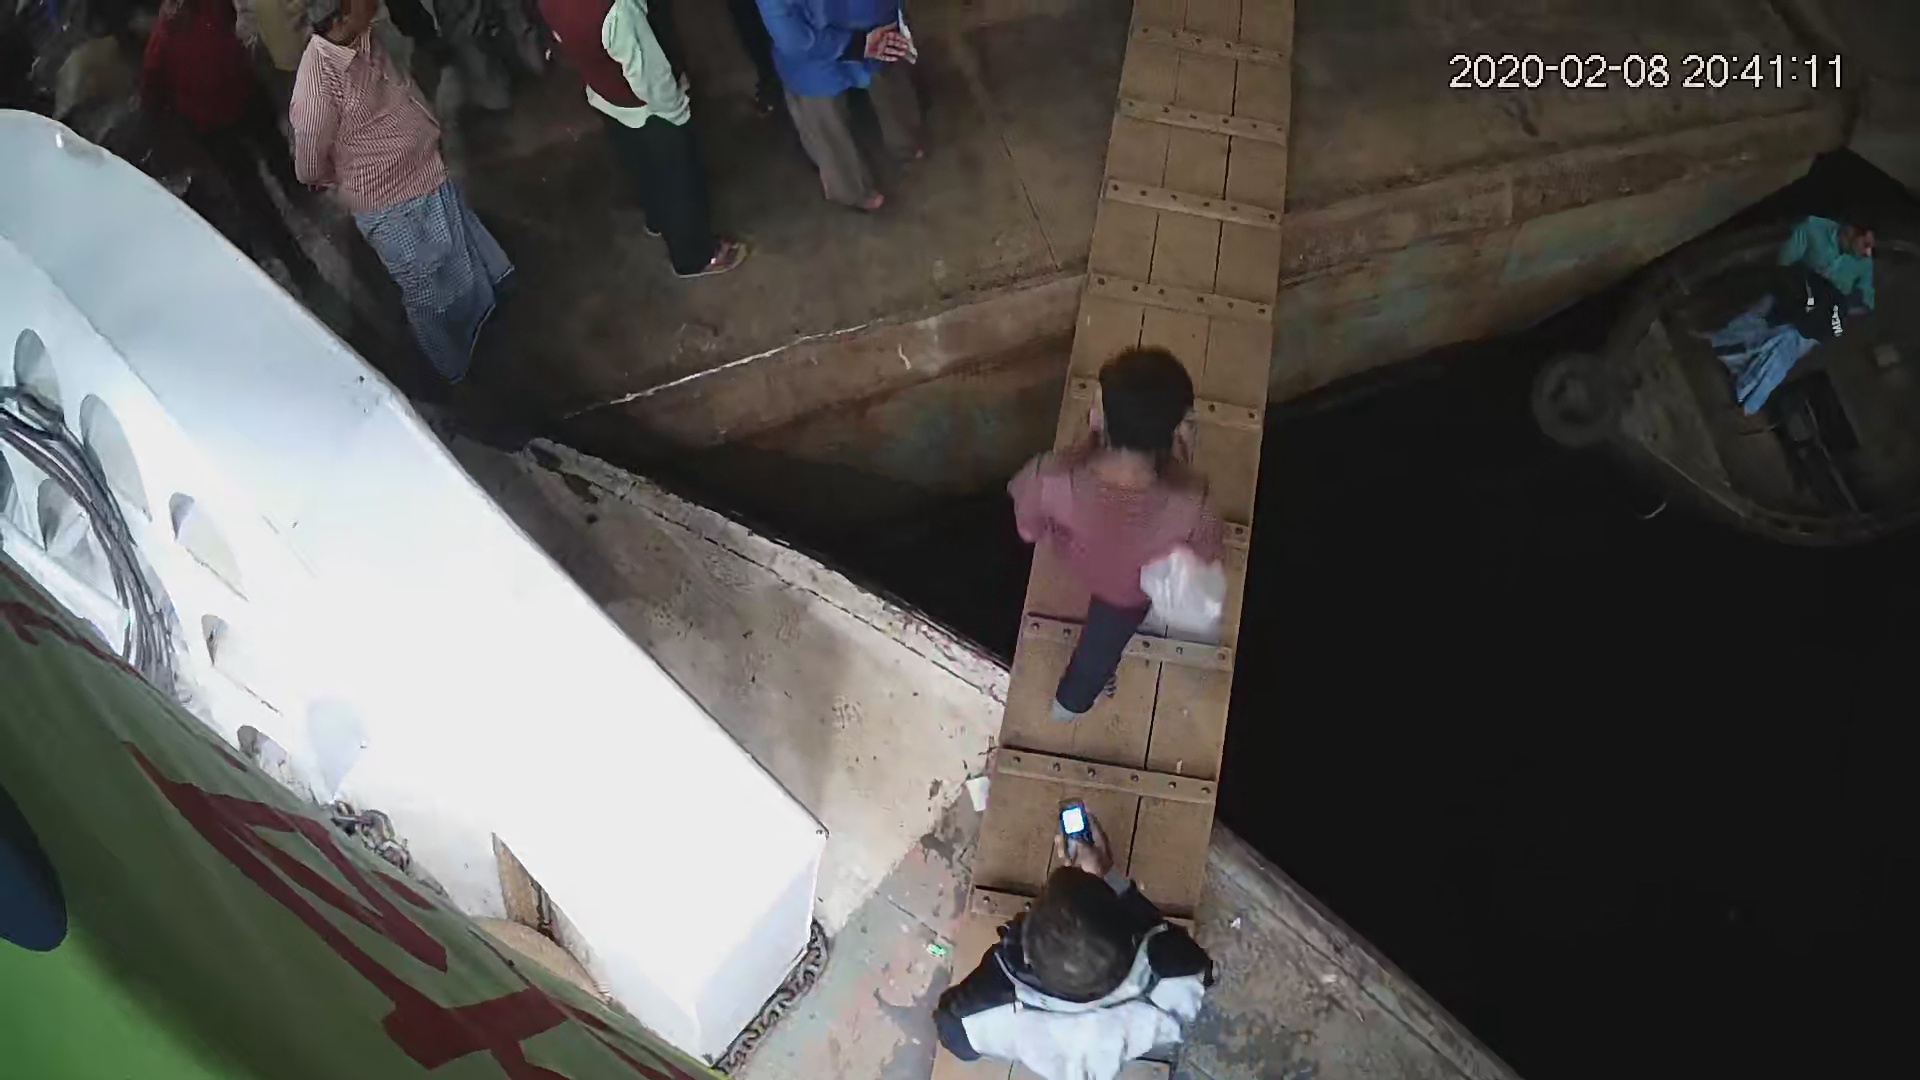person: (286, 1, 515, 395), (1007, 345, 1236, 718), (923, 788, 1217, 1070), (531, 1, 750, 288), (1690, 176, 1882, 416)
